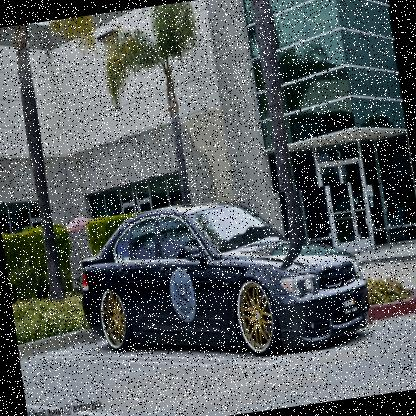Car: (70, 182, 374, 383)
